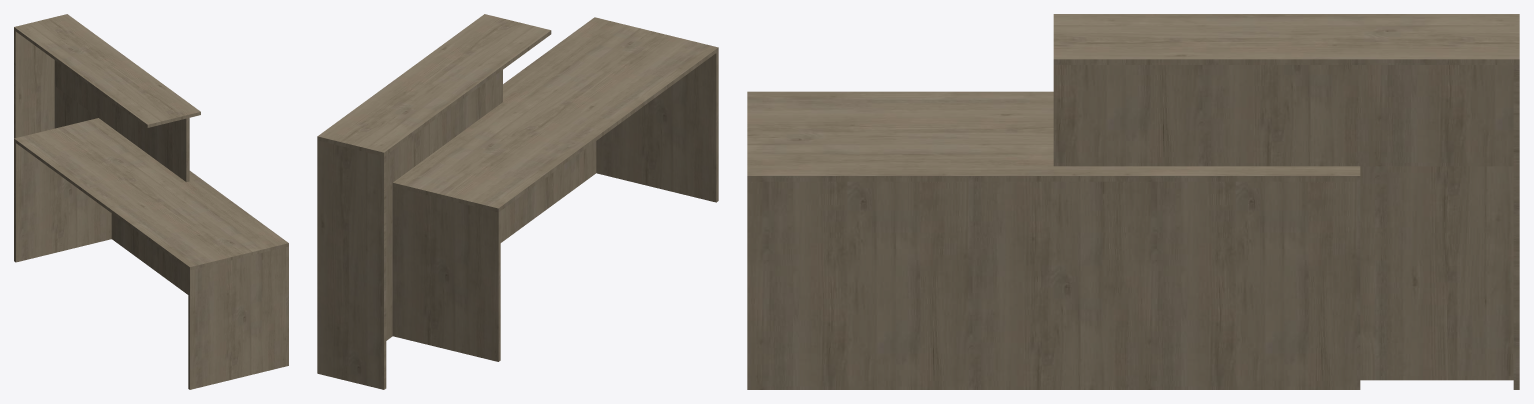
File: res8.glb
The picture shows the model from 3 angles, left to right: view 1: azimuth 30°, elevation 25°; view 2: azimuth 150°, elevation 25°; view 3: azimuth 270°, elevation 25°; orthographic projection. The views are drawn at different scales.
Parts seen in each view (by area): view 1: Box044, Box042, Box049, Box043, Box045, Box048, Box041, Box050; view 2: Box044, Box048, Box043, Box049, Box042, Box045, Box041, Box050; view 3: Box041, Box045, Box050, Box044, Box049, Box048.
Boxes of the visible parts, x1,y1,x2,y2 form: Box044: [14, 118, 288, 270]; Box042: [188, 247, 285, 389]; Box049: [14, 14, 200, 127]; Box043: [14, 142, 111, 262]; Box045: [54, 60, 189, 182]; Box048: [14, 30, 54, 138]; Box041: [111, 213, 288, 366]; Box050: [54, 86, 97, 128]; Box044: [392, 17, 718, 212]; Box048: [317, 140, 386, 389]; Box043: [392, 187, 500, 361]; Box049: [317, 14, 551, 156]; Box042: [596, 51, 718, 202]; Box045: [386, 70, 502, 186]; Box041: [500, 141, 596, 242]; Box050: [386, 183, 392, 340]; Box041: [747, 181, 1360, 389]; Box045: [1053, 65, 1513, 166]; Box050: [1360, 166, 1513, 380]; Box044: [747, 91, 1360, 181]; Box049: [1053, 14, 1519, 64]; Box048: [1513, 65, 1519, 389].
Bounding box in the file's own units: 0.65 × 1.19 × 2.52.
1 material, 1 textured.
